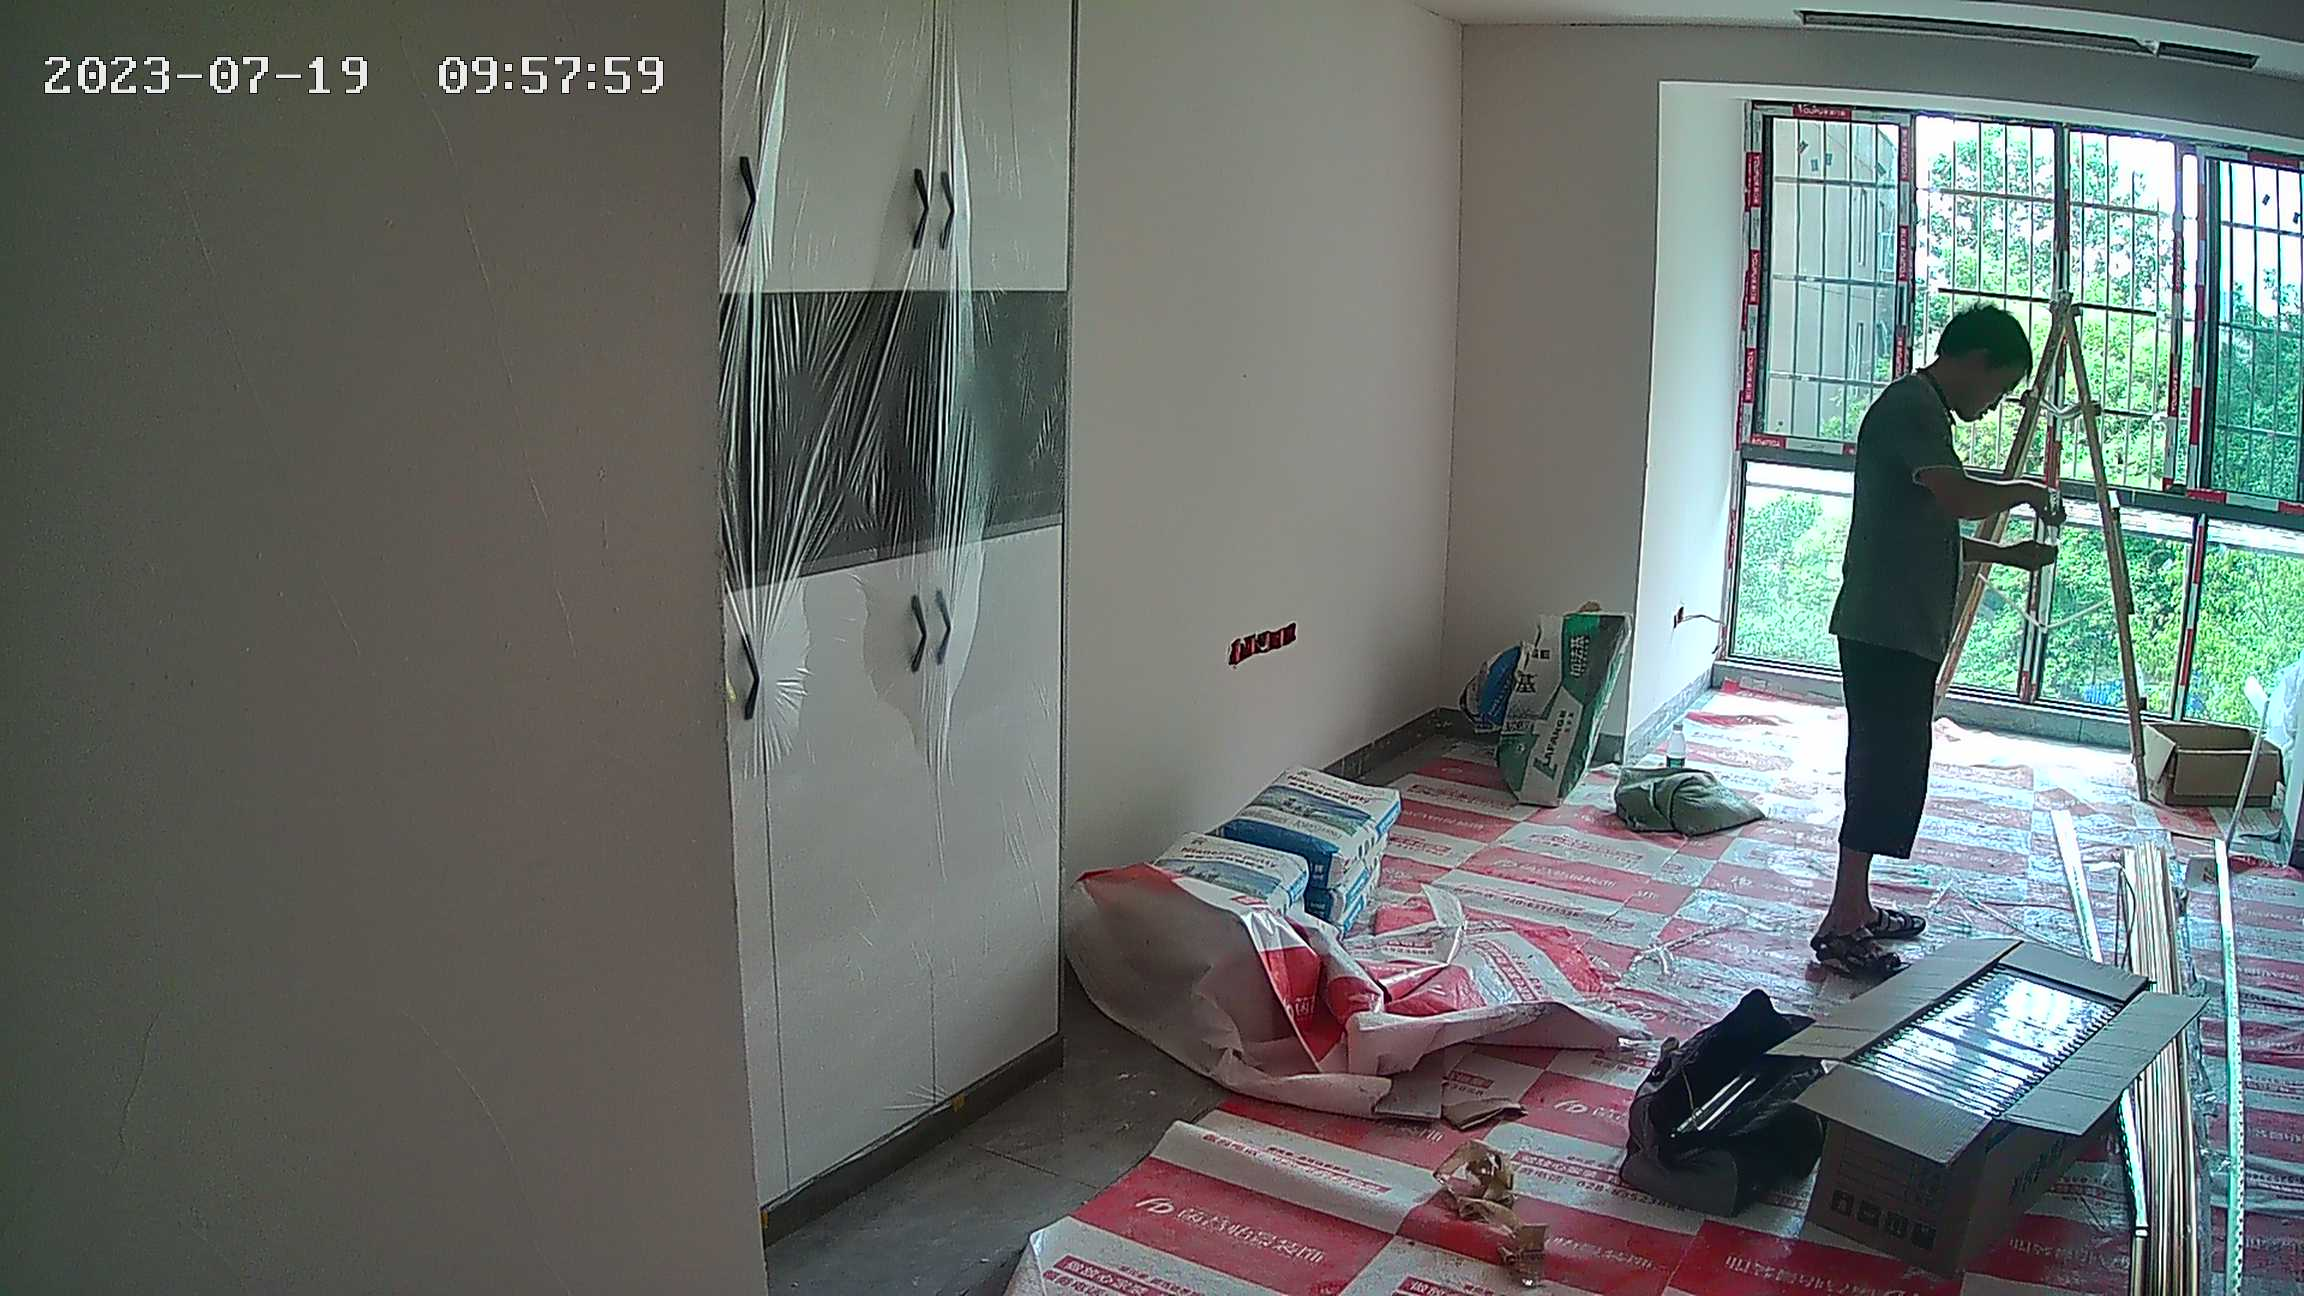people: (1817, 293, 2064, 997)
window: (1720, 137, 2304, 689)
